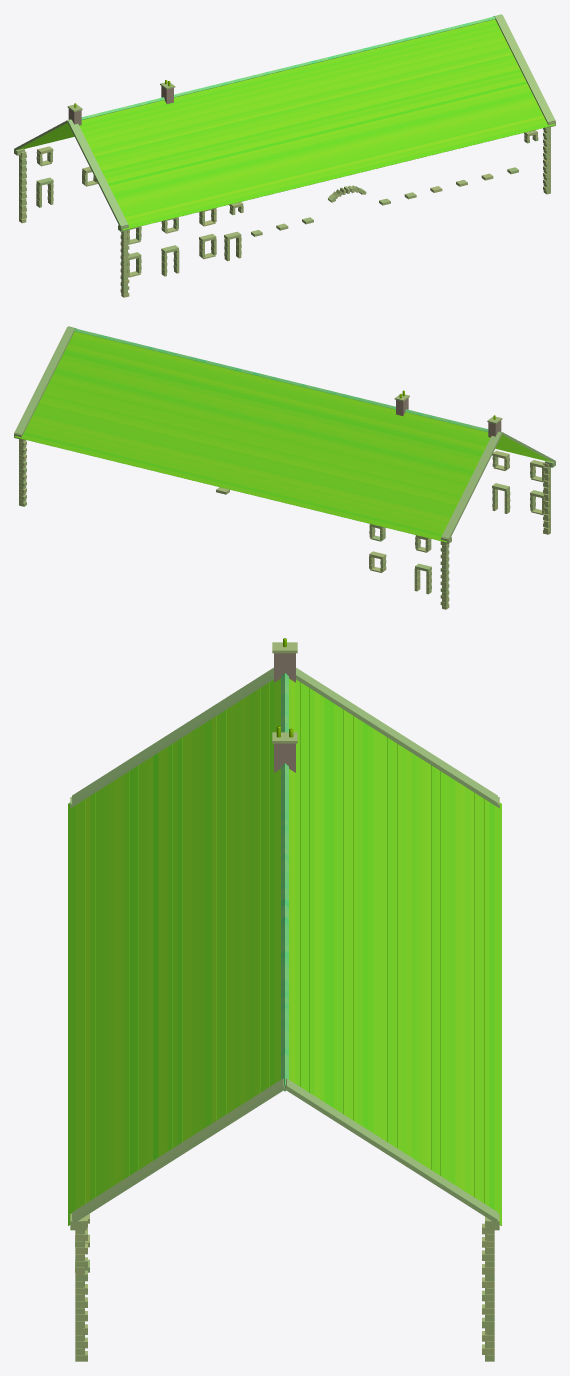
The model's file is SM_Bld_163_Stone.glb.
The picture shows the model from 3 angles, top to bottom: view 1: azimuth 30°, elevation 25°; view 2: azimuth 150°, elevation 25°; view 3: azimuth 270°, elevation 25°; orthographic projection. The views are drawn at different scales.
Visible parts, largest first — view 1: SM_Bld_163_Stone; view 2: SM_Bld_163_Stone; view 3: SM_Bld_163_Stone.
Part boxes in pixels (x1,y1,x2,y2): SM_Bld_163_Stone: (14,14,555,297); SM_Bld_163_Stone: (14,326,555,609); SM_Bld_163_Stone: (68,638,501,1361).
Size of the model in its own units: 40.68 by 13.93 by 17.58.
